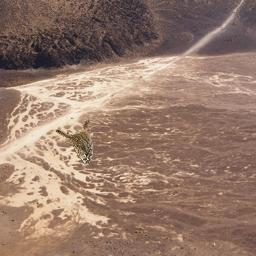Sparrow: (55, 119, 93, 165)
